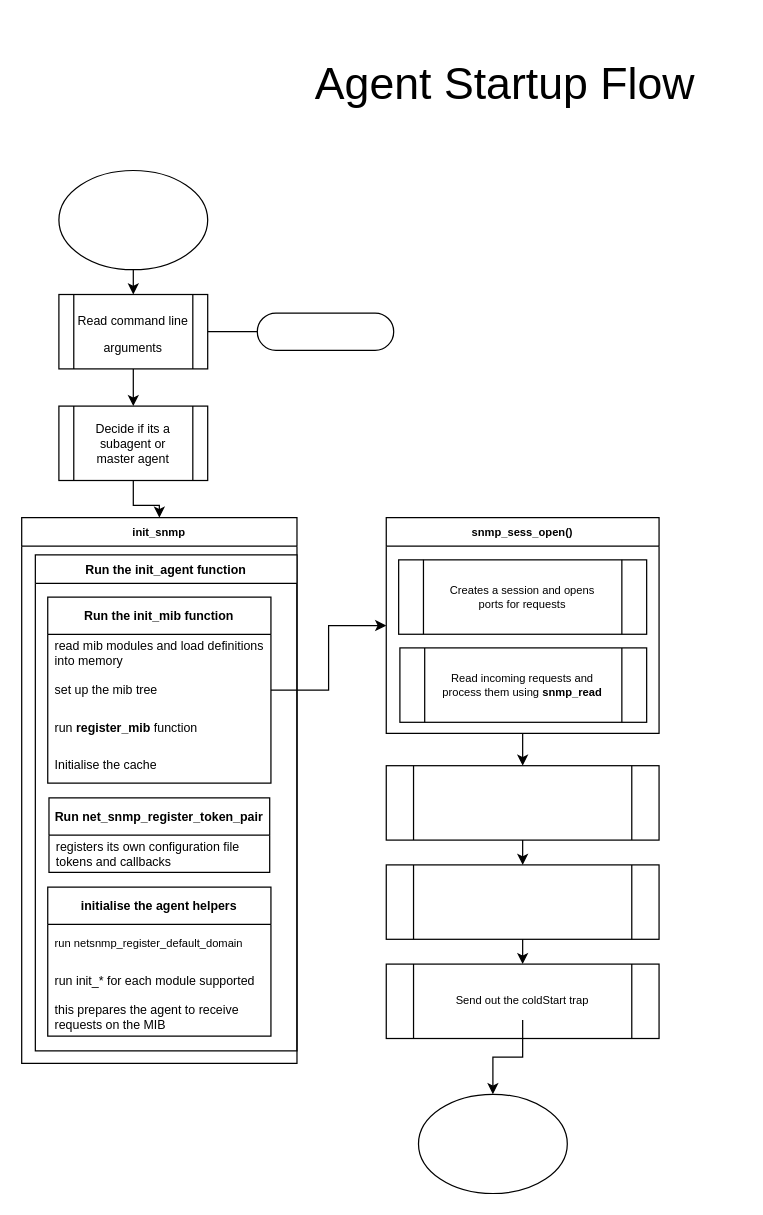
Some shapes in this 763 by 1215 pixel diagram are drawn without their labels. The centre of each missing label's shape, as x and y in pixels:
fork the agent unless specified in the command line arguments: (522,802)
getopt library: (325,331)
Save persistent data: (522,901)
Start: (133,219)
Wait for requests from the manager: (492,1143)
